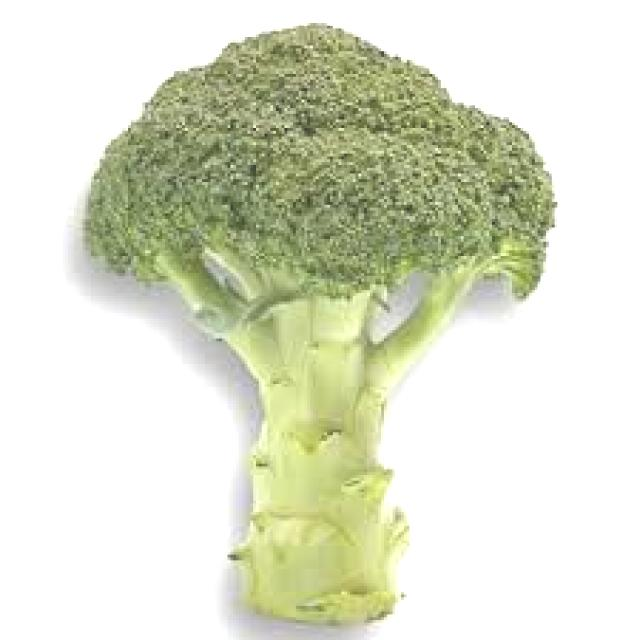broccoli: (62, 16, 564, 638)
